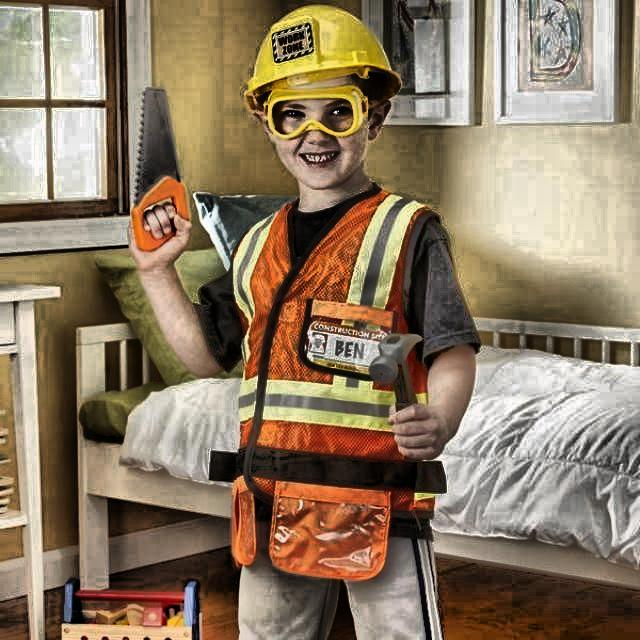safety_helmet: (241, 3, 406, 114)
safety_jacket: (229, 194, 437, 578)
